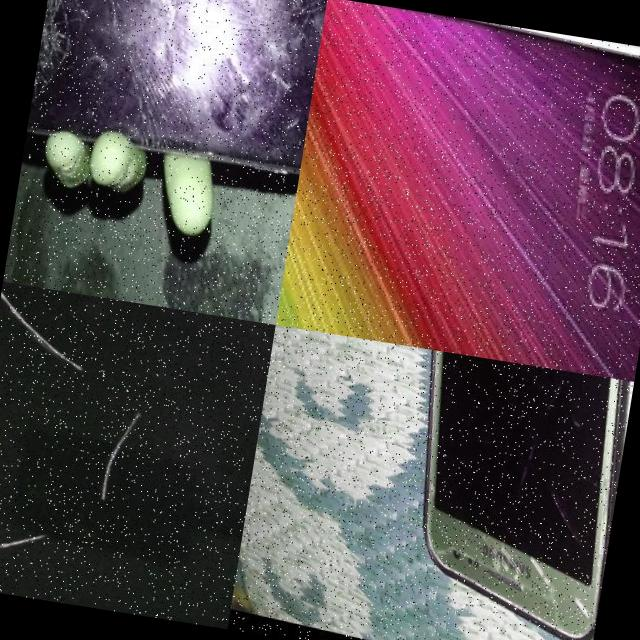scratch: (74, 396, 158, 516), (0, 281, 96, 377), (0, 522, 51, 569)
screen crack: (401, 482, 608, 630), (25, 0, 131, 148), (111, 38, 212, 166)
